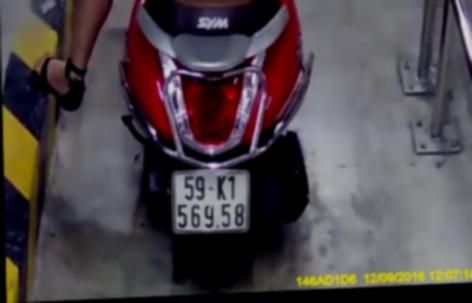License_Plate: (162, 162, 260, 243)
